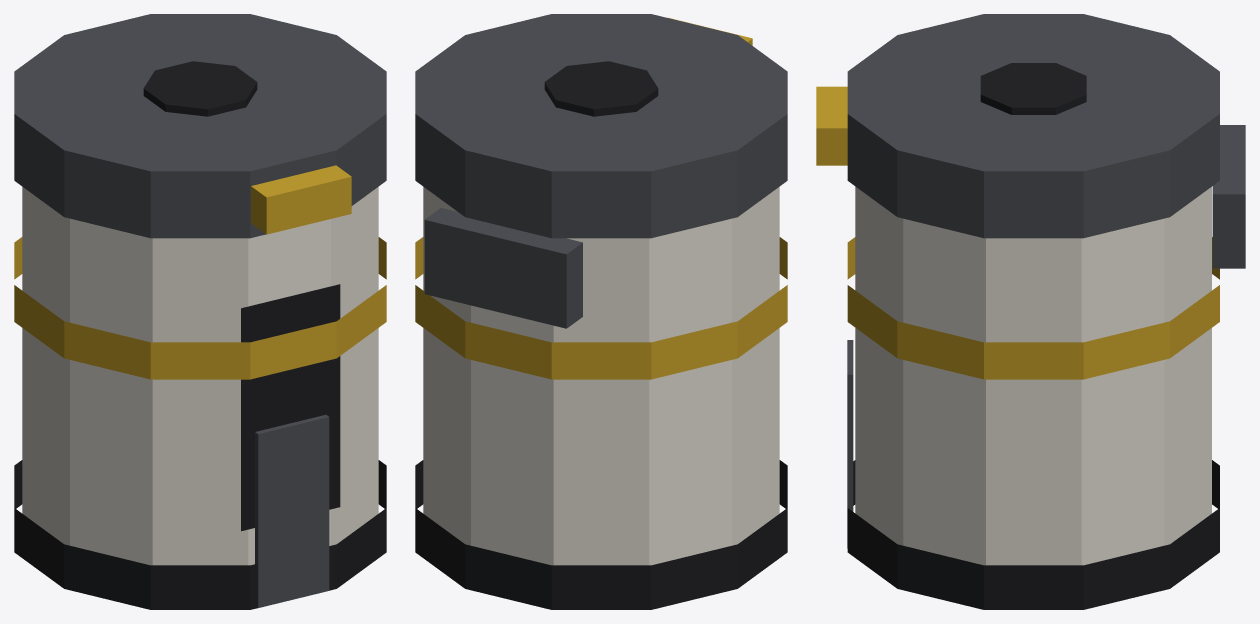
Rendered from sample_container_full.glb.
3 renders of one model, left to right at view 1: azimuth 30°, elevation 25°; view 2: azimuth 150°, elevation 25°; view 3: azimuth 270°, elevation 25°, orthographic.
Visible parts, largest first — view 1: sample_container_full, container_lid, container_fill; view 2: sample_container_full, container_lid; view 3: sample_container_full, container_lid, container_fill.
Boxes of the visible parts, <box> form: sample_container_full: <box>14,187,386,609</box>; container_lid: <box>14,14,386,238</box>; container_fill: <box>255,415,329,607</box>; sample_container_full: <box>415,187,787,609</box>; container_lid: <box>415,14,787,238</box>; sample_container_full: <box>847,125,1245,609</box>; container_lid: <box>816,14,1219,238</box>; container_fill: <box>847,340,853,548</box>.
Size of what is drawn, in the model's own units: 0.0908 by 0.12 by 0.1046.
